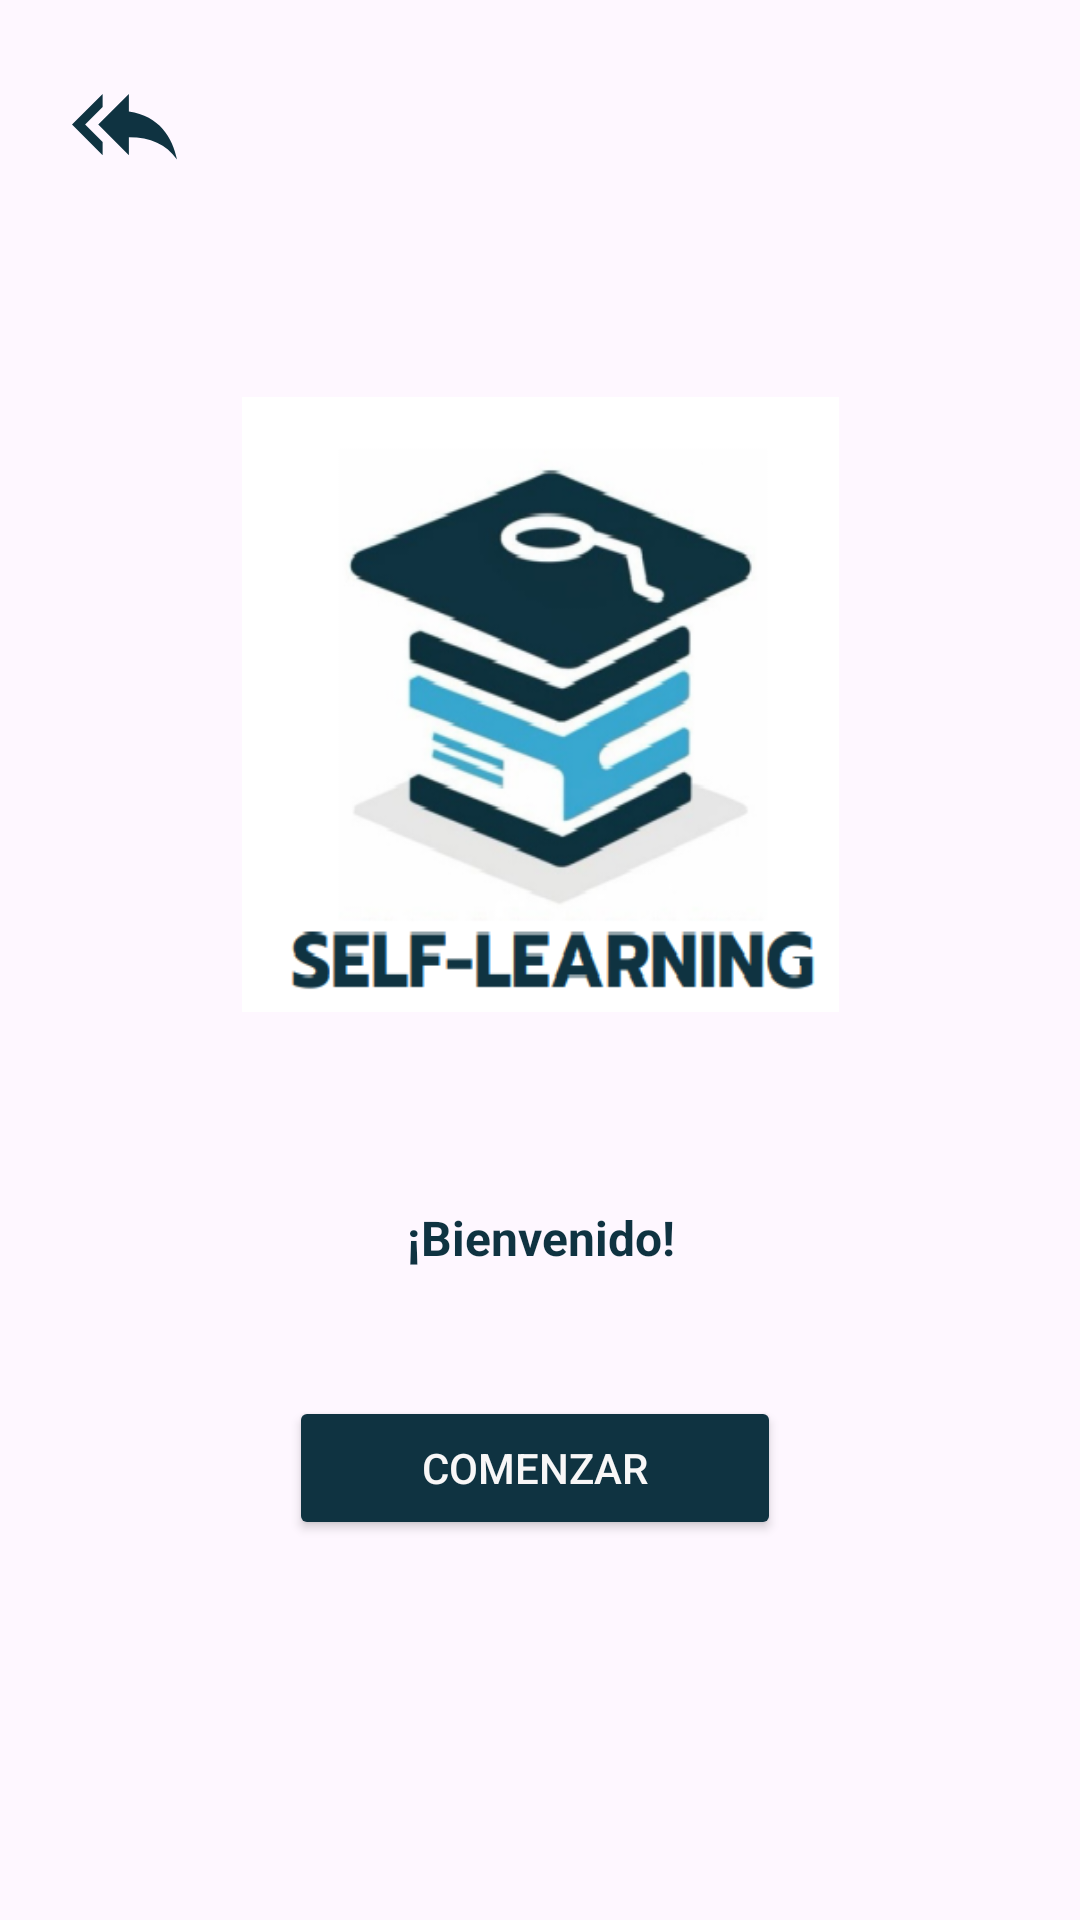

Where icons sit on this 1080×1920 app screen, as (x1, y1, x2, y2):
backimage: (72, 94, 177, 159)
